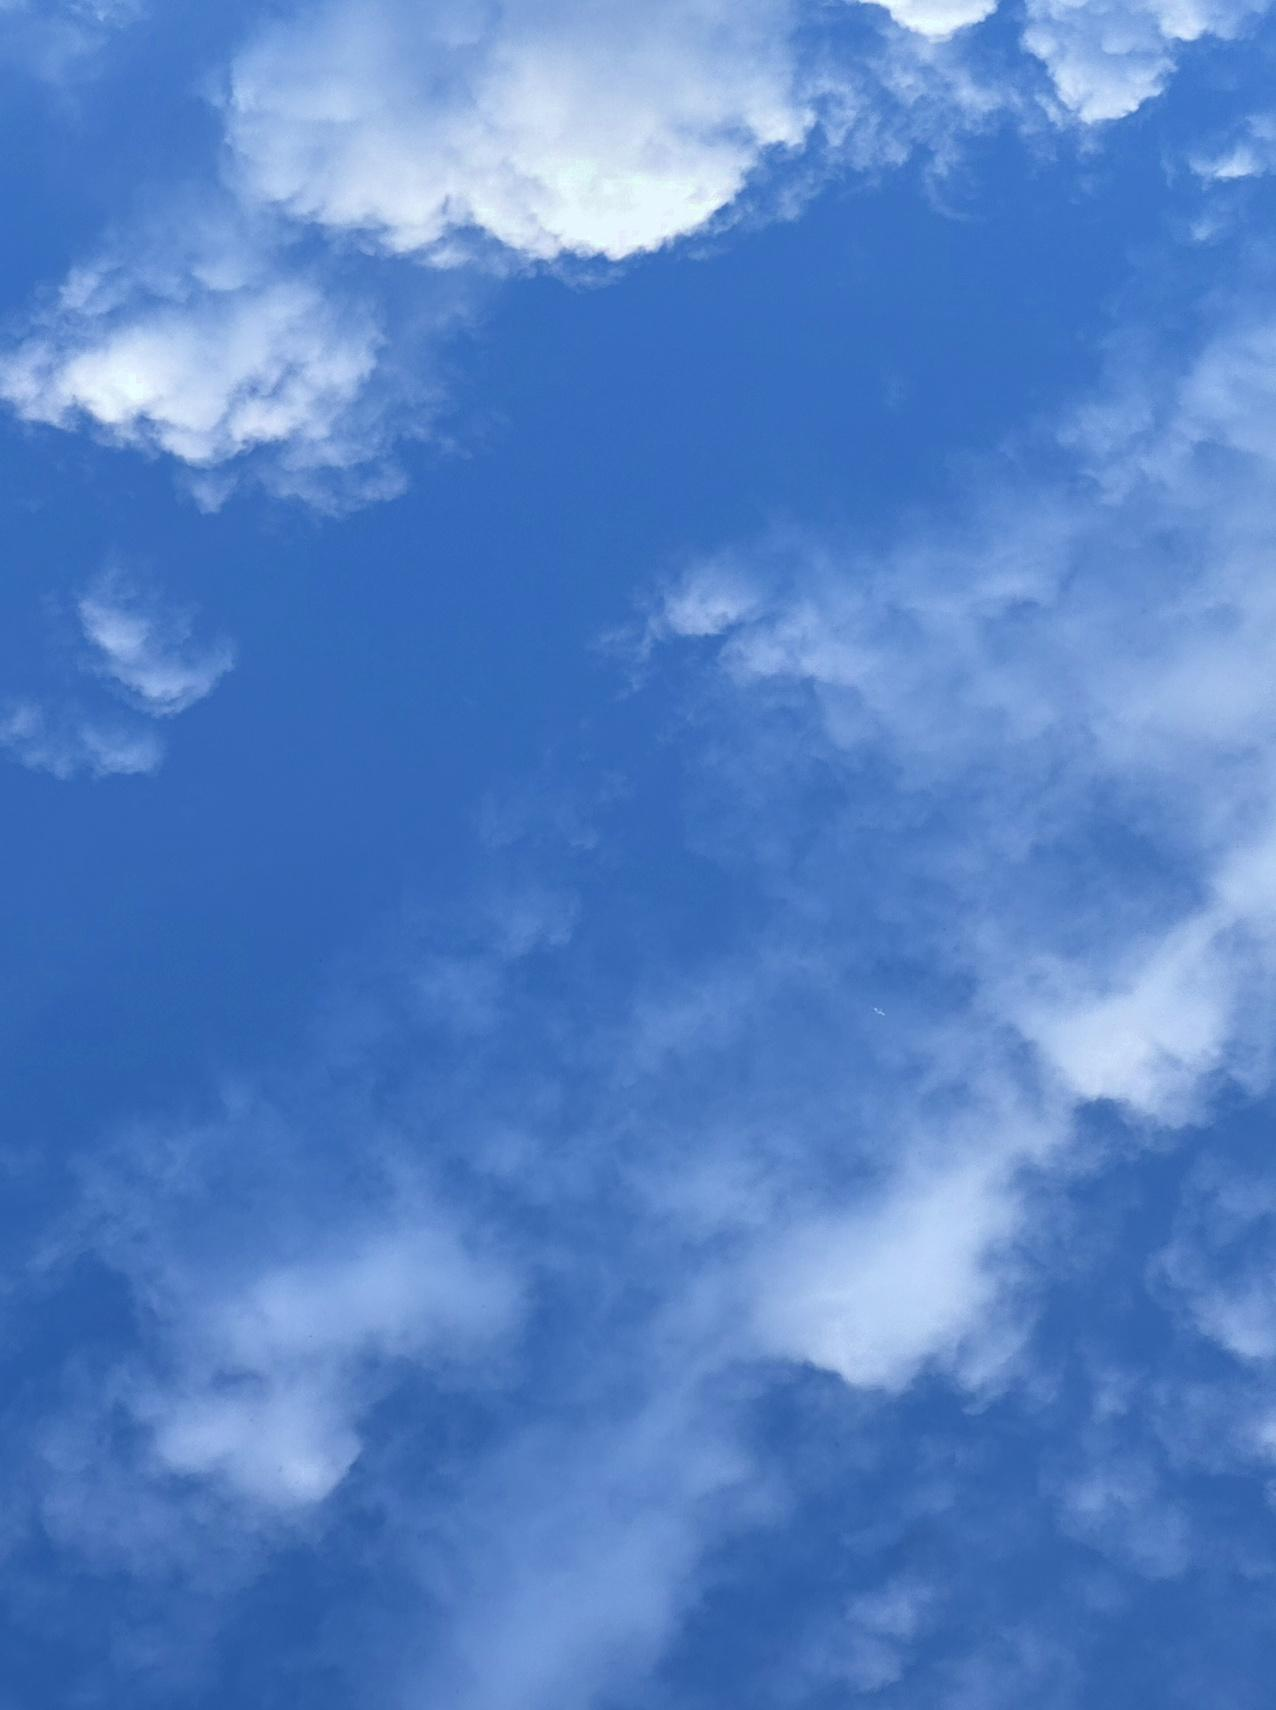Plane: (860, 994, 902, 1029)
